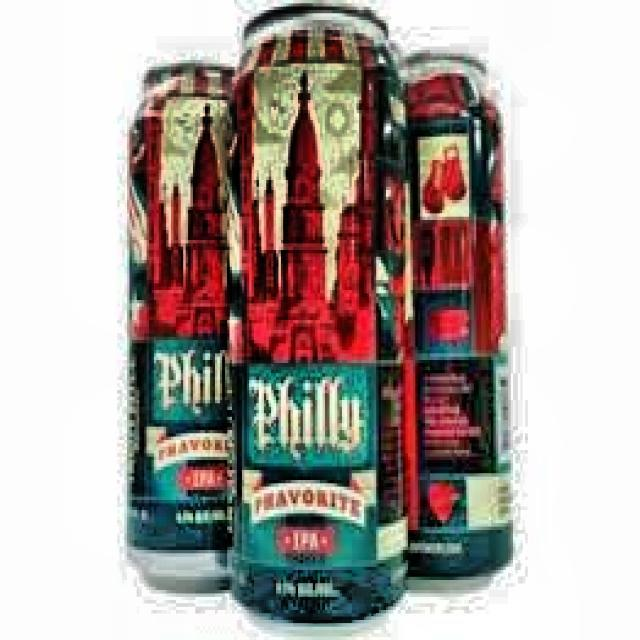litter: (234, 0, 410, 633), (390, 39, 520, 598), (122, 54, 245, 596)
